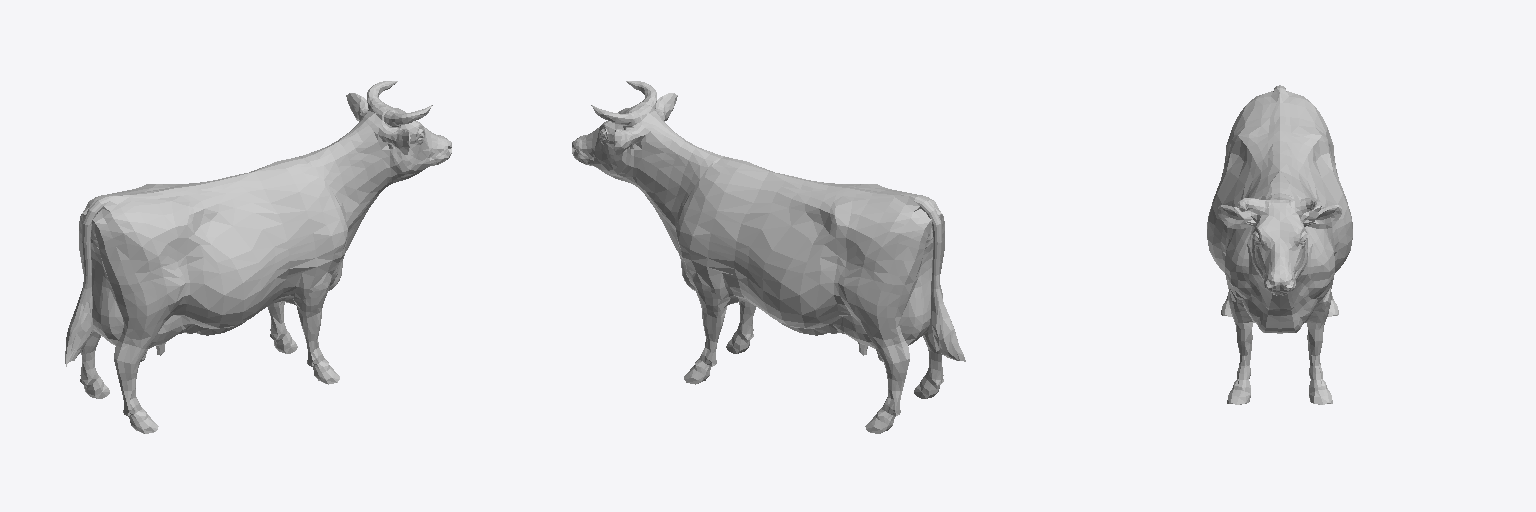
The model's file is cow_smooth.obj.
The picture shows the model from 3 angles: view 1: azimuth 30°, elevation 25°; view 2: azimuth 150°, elevation 25°; view 3: azimuth 270°, elevation 25°; orthographic projection.
Parts seen in each view (by area): view 1: cow:Mesh; view 2: cow:Mesh; view 3: cow:Mesh.
Part boxes in pixels (left/top/right/bottom): cow:Mesh: left=65, top=81, right=451, bottom=433; cow:Mesh: left=572, top=81, right=965, bottom=433; cow:Mesh: left=1207, top=85, right=1352, bottom=404.
Bounding box in the file's own units: 0.9695 × 0.5938 × 0.3159.